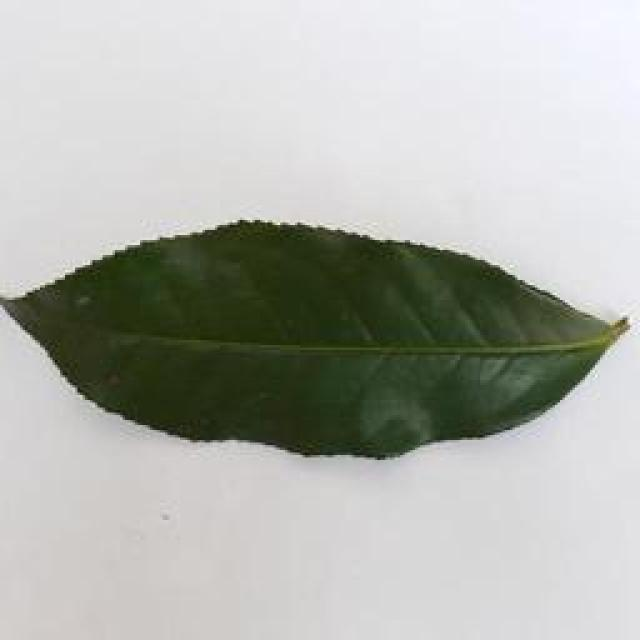Healthy: (0, 201, 640, 469)
